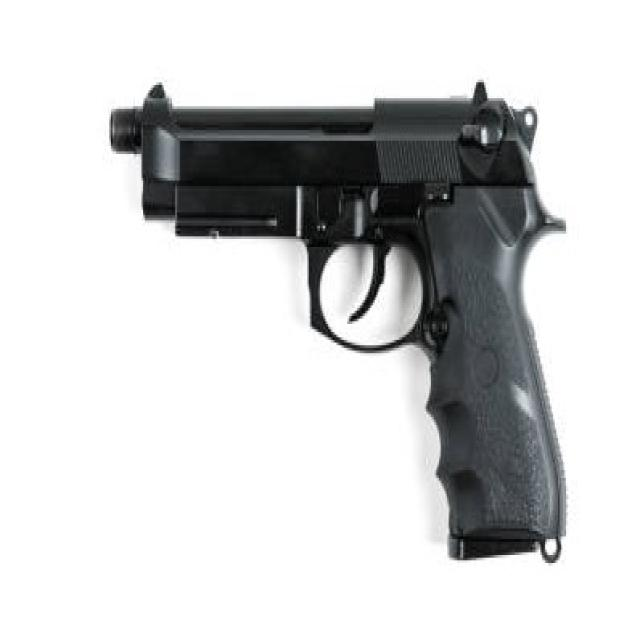pistol: (111, 73, 581, 573)
